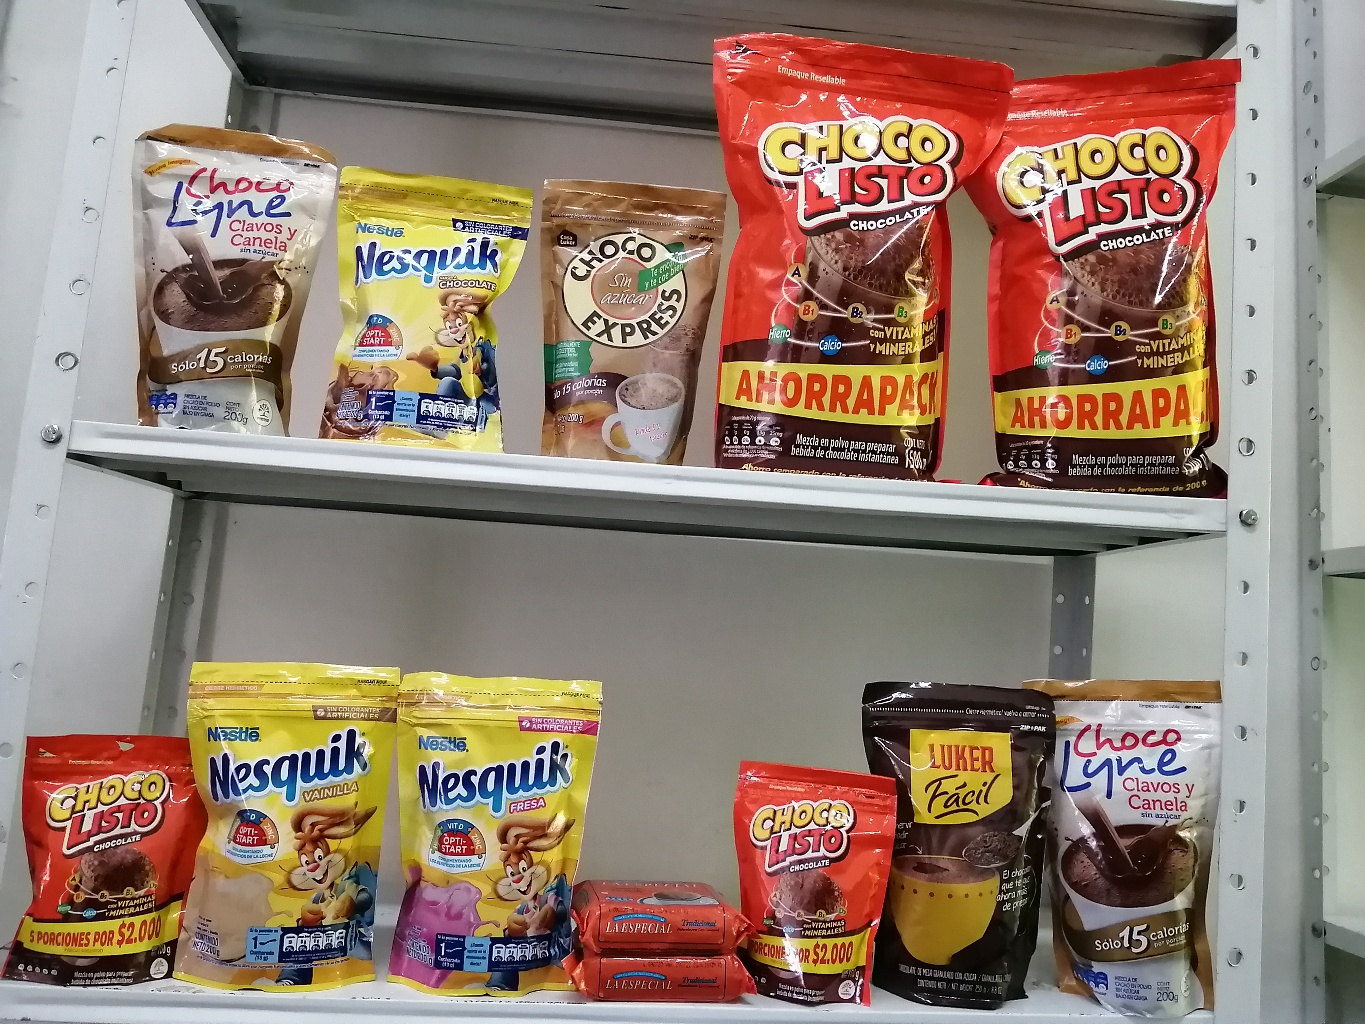COL0170103DYP1,500: (709, 35, 993, 482)
COL0170303DYP20000: (341, 161, 531, 457)
COL0170305DYP20000: (397, 672, 601, 997)
COL0170306DYP20000: (188, 662, 398, 992)
